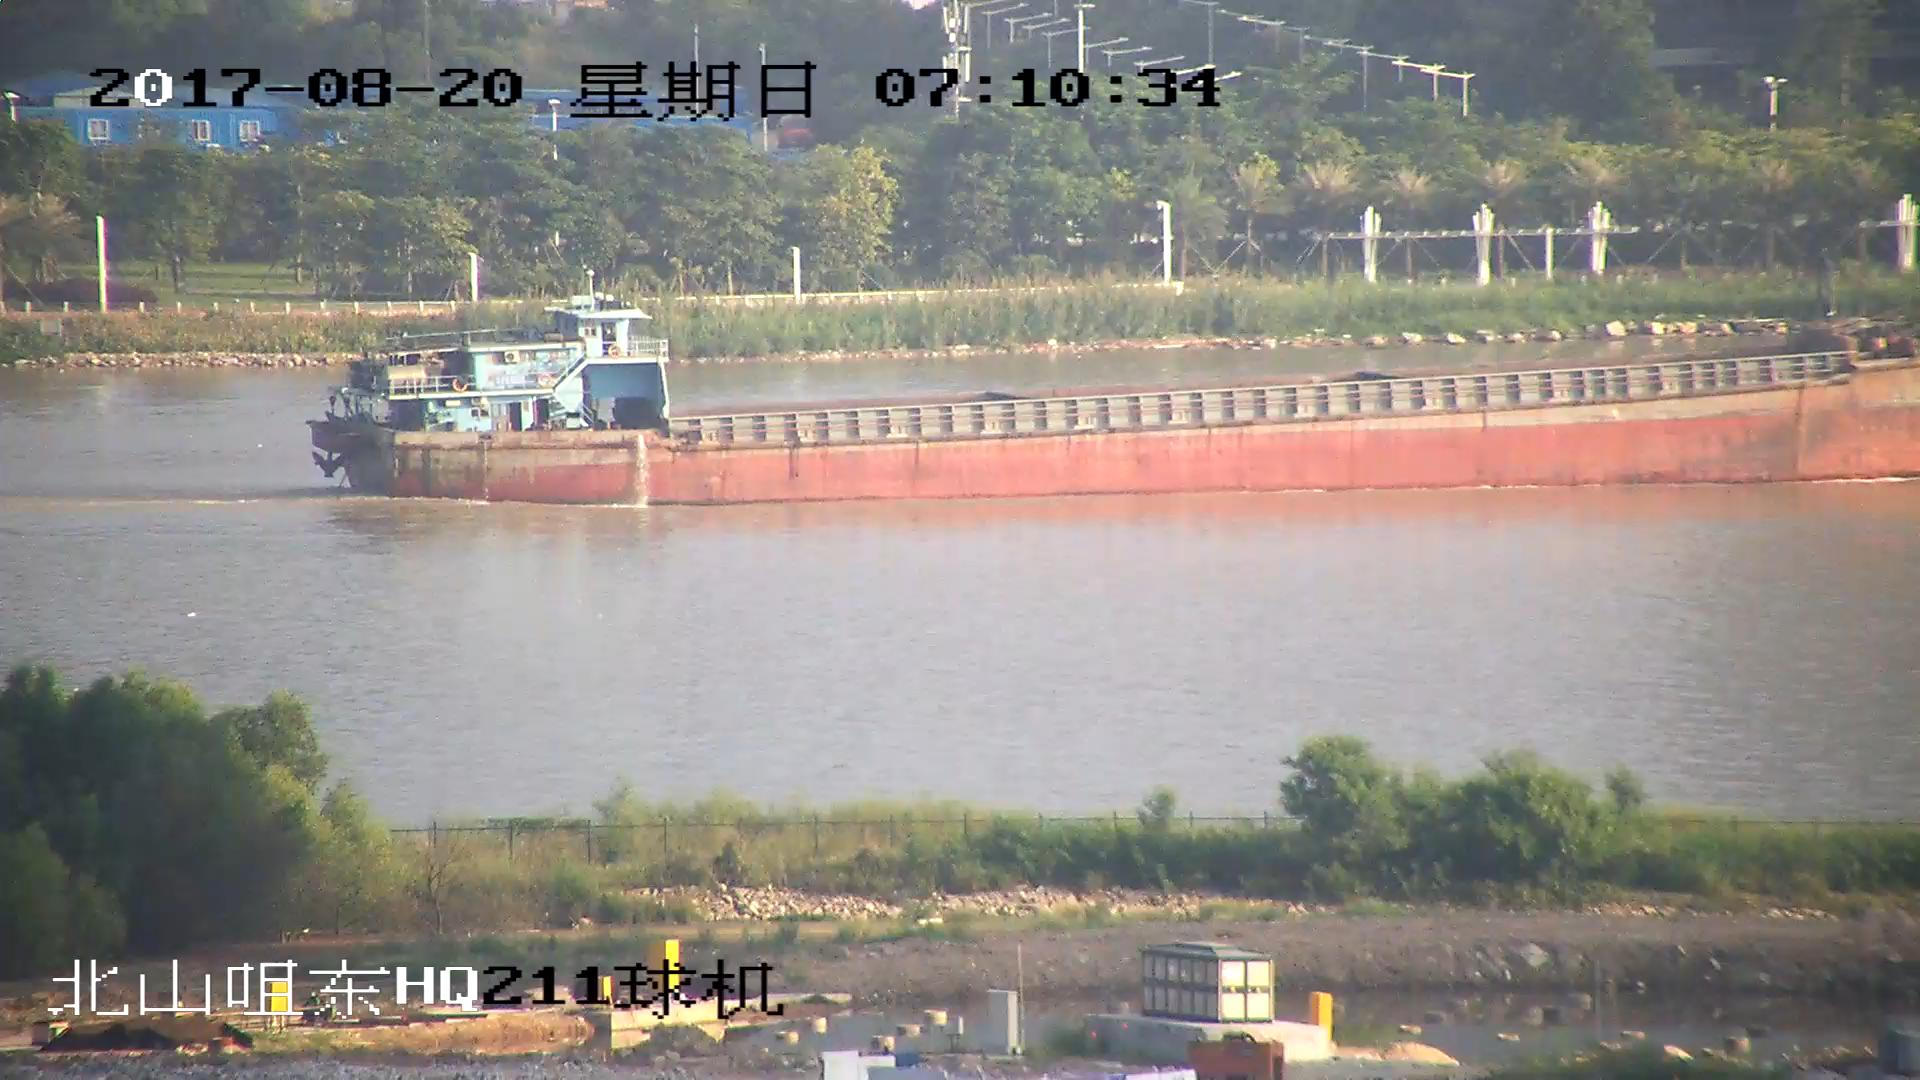bulk cargo carrier: (310, 305, 1920, 503)
